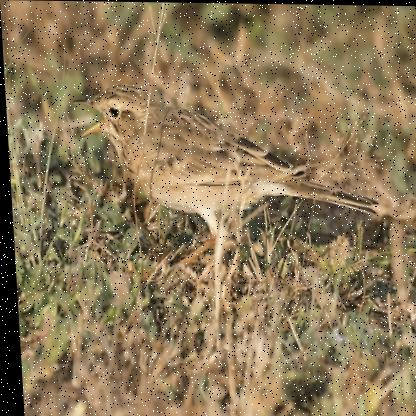Burung: (72, 77, 376, 270)
